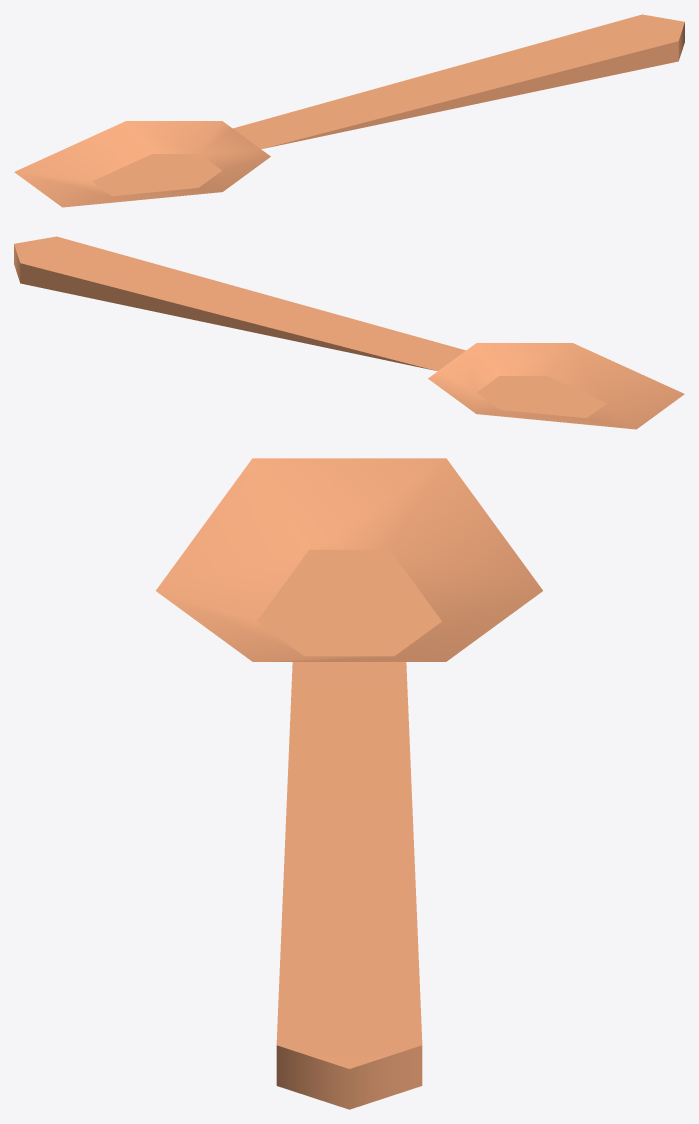
Rendered from cookingSpoon.obj.
3 renders of one model, top to bottom at view 1: azimuth 30°, elevation 25°; view 2: azimuth 150°, elevation 25°; view 3: azimuth 270°, elevation 25°, orthographic. The views are drawn at different scales.
Parts seen in each view (by area): view 1: cookingSpoon; view 2: cookingSpoon; view 3: cookingSpoon.
Boxes of the visible parts, bbox=[...] form: cookingSpoon: bbox=[14, 14, 684, 207]; cookingSpoon: bbox=[14, 236, 684, 429]; cookingSpoon: bbox=[156, 458, 542, 1109].
Size of the model in its own units: 0.6656 by 0.0244 by 0.1728.
